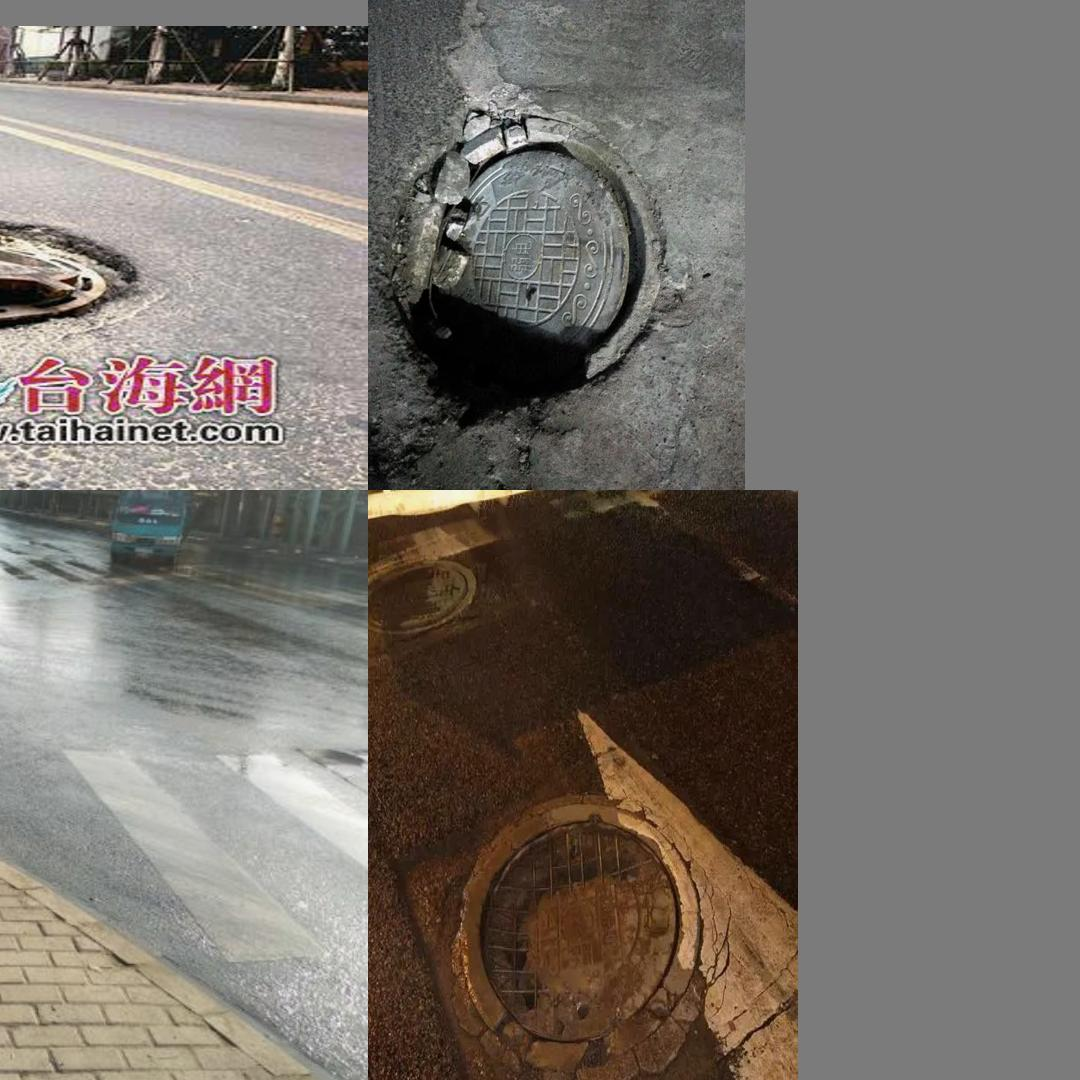circle: (408, 765, 767, 1080), (379, 114, 674, 407), (0, 204, 204, 356)
